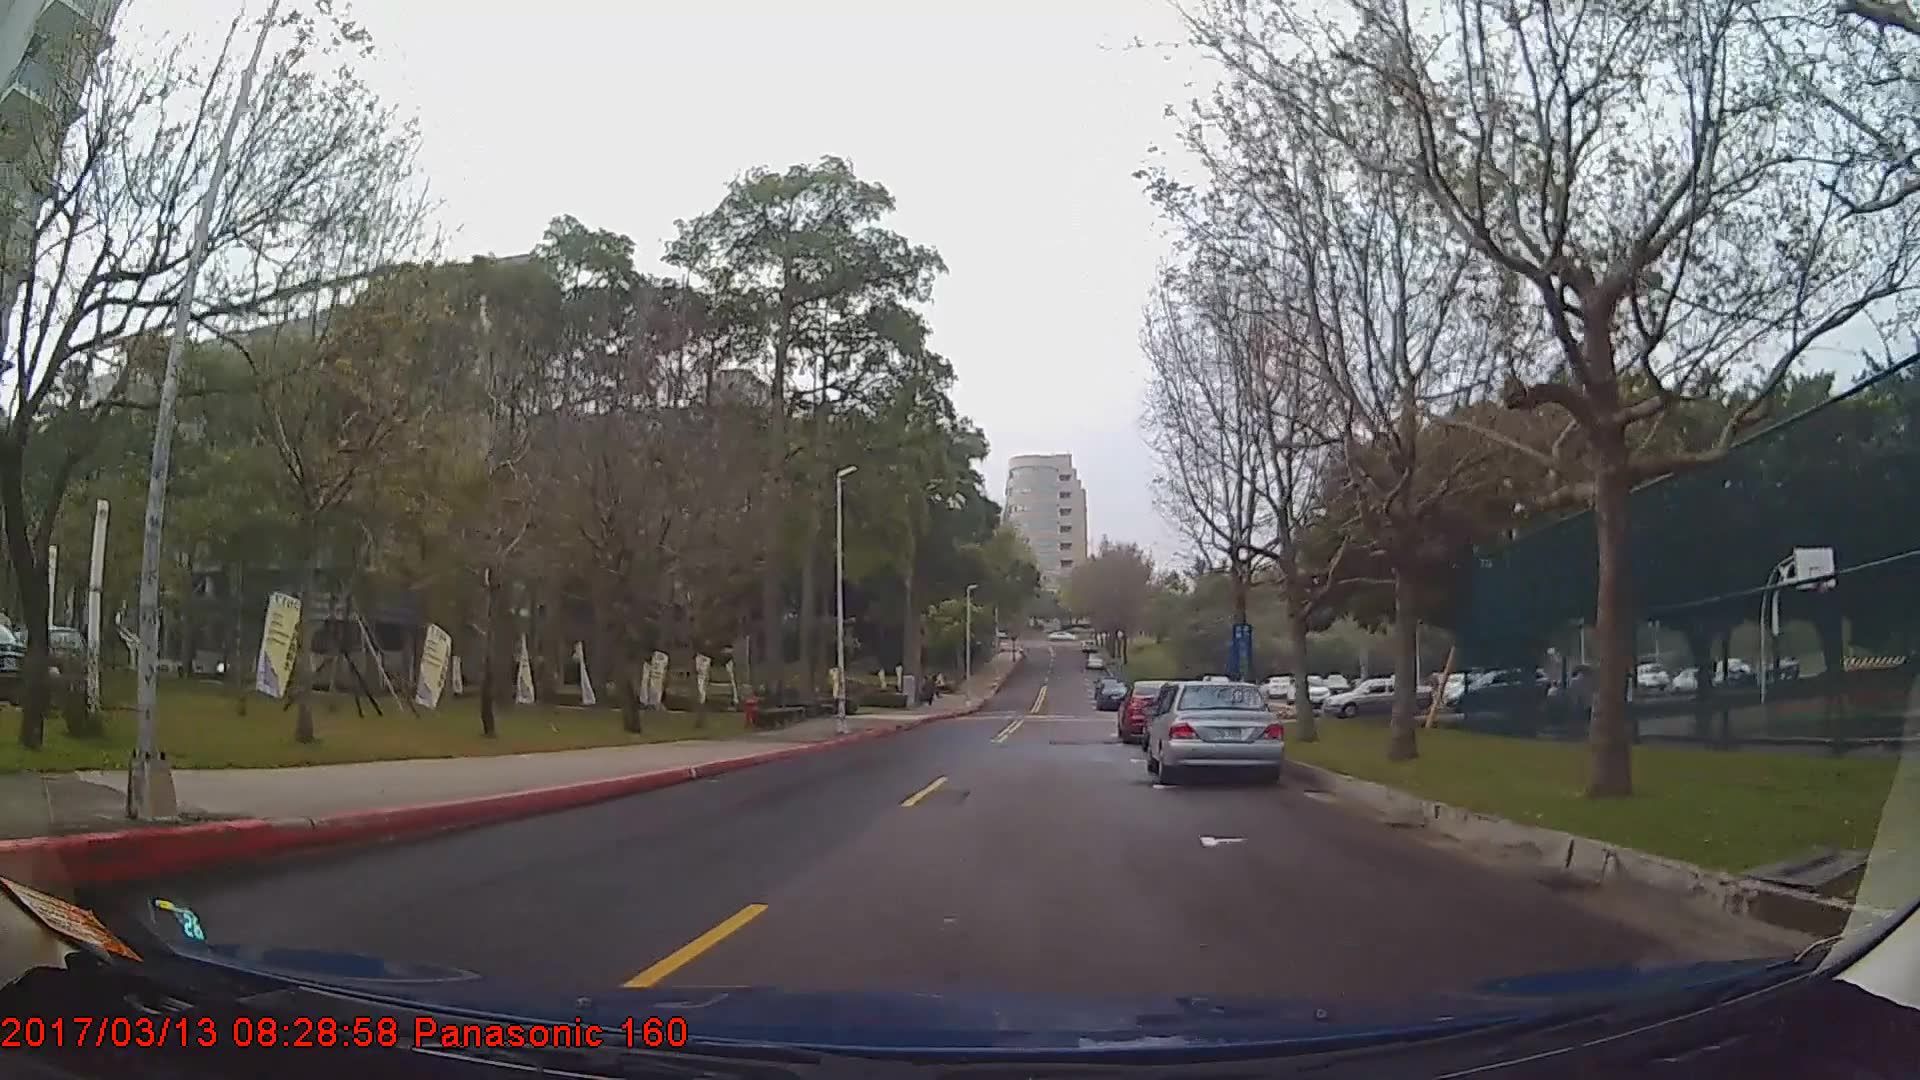vehicle: (1145, 680, 1284, 786), (1323, 673, 1436, 720), (1116, 679, 1189, 749), (1096, 680, 1131, 712)
